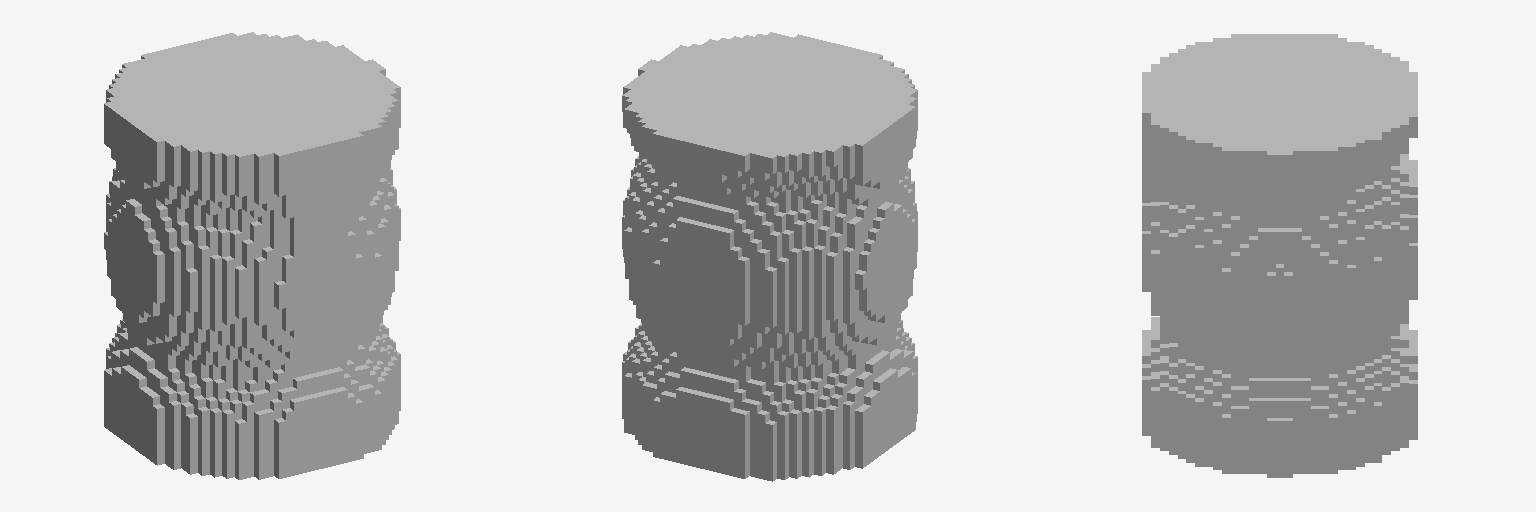
File: bochka belaya.obj
The picture shows the model from 3 angles: view 1: azimuth 30°, elevation 25°; view 2: azimuth 150°, elevation 25°; view 3: azimuth 270°, elevation 25°; orthographic projection.
Bounding box in the file's own units: 32 × 40 × 31.